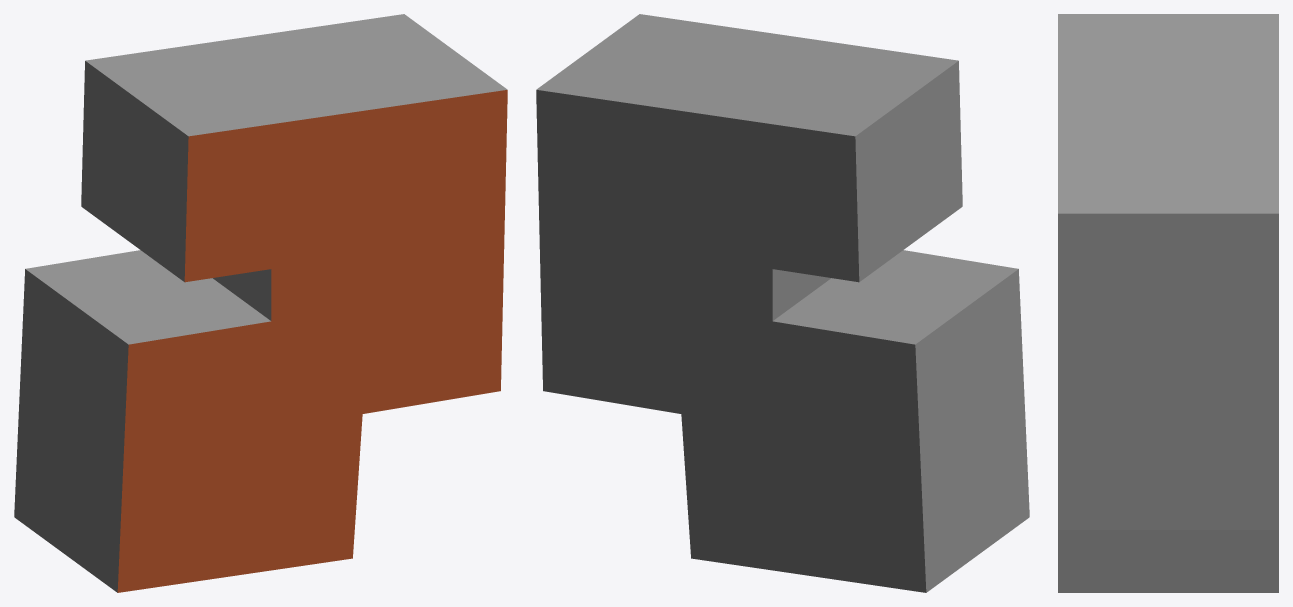
File: construction_4198_assumed_A_Casa_h6m.obj
3 renders of one model, left to right at view 1: azimuth 30°, elevation 25°; view 2: azimuth 150°, elevation 25°; view 3: azimuth 270°, elevation 25°, orthographic. The views are drawn at different scales.
Visible parts, largest first — view 1: construction_4198_assumed_A_Casa; view 2: construction_4198_assumed_A_Casa; view 3: construction_4198_assumed_A_Casa.
Part boxes in pixels (<box>): construction_4198_assumed_A_Casa: <box>14,14,507,592</box>; construction_4198_assumed_A_Casa: <box>536,14,1029,592</box>; construction_4198_assumed_A_Casa: <box>1058,14,1278,592</box>.
Bounding box in the file's own units: 13.06 × 14.78 × 6.
